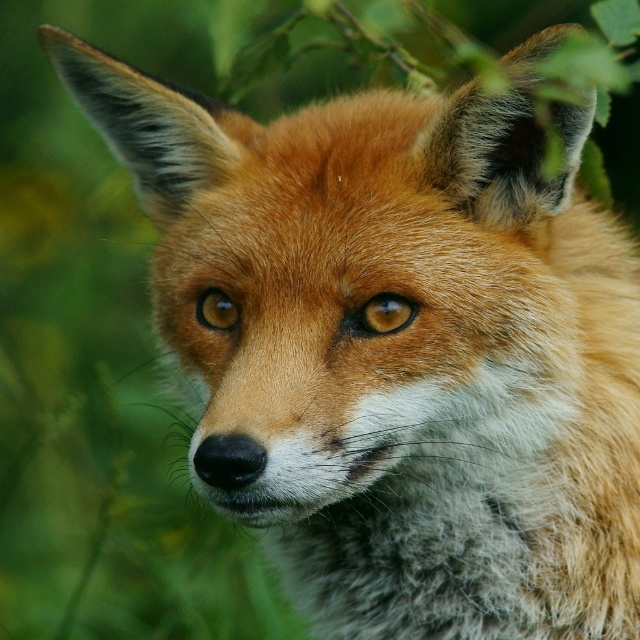Fox: (35, 20, 640, 640)
